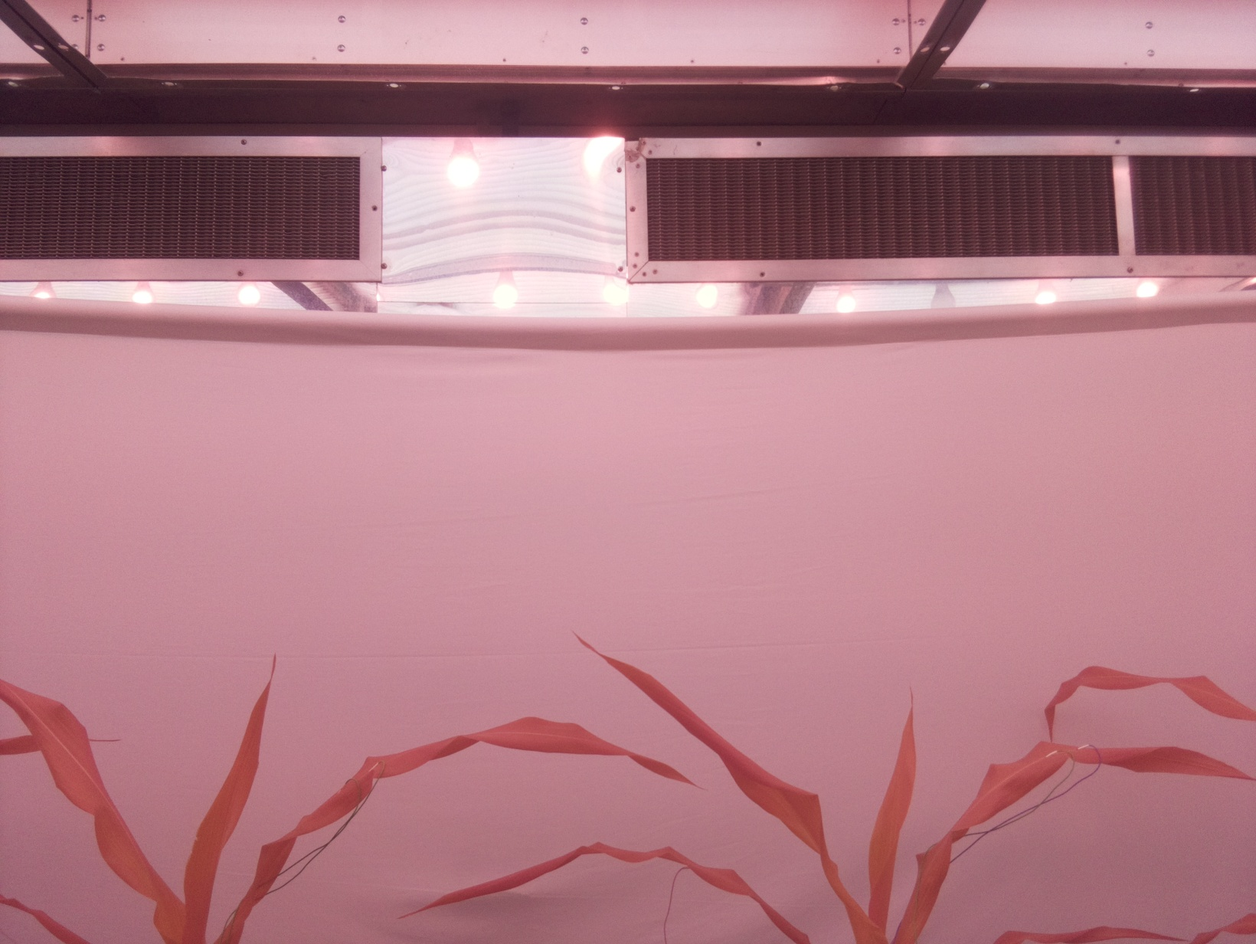maize: (397, 630, 1256, 944), (1, 649, 707, 944)
